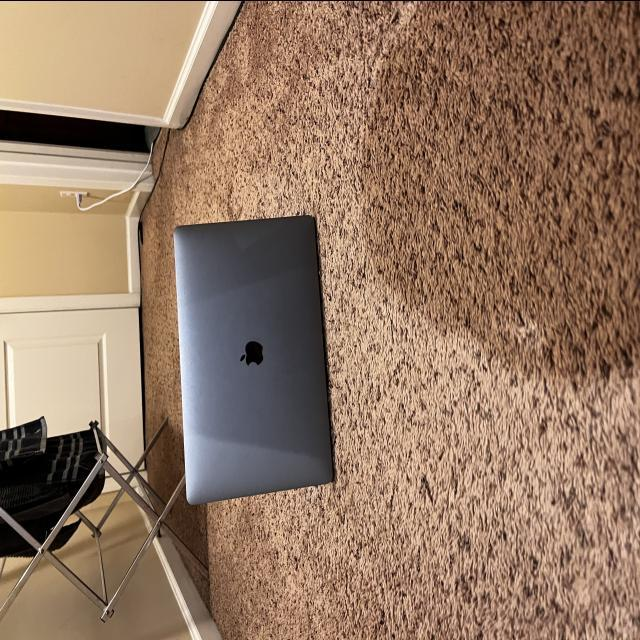laptop: (171, 213, 335, 505)
